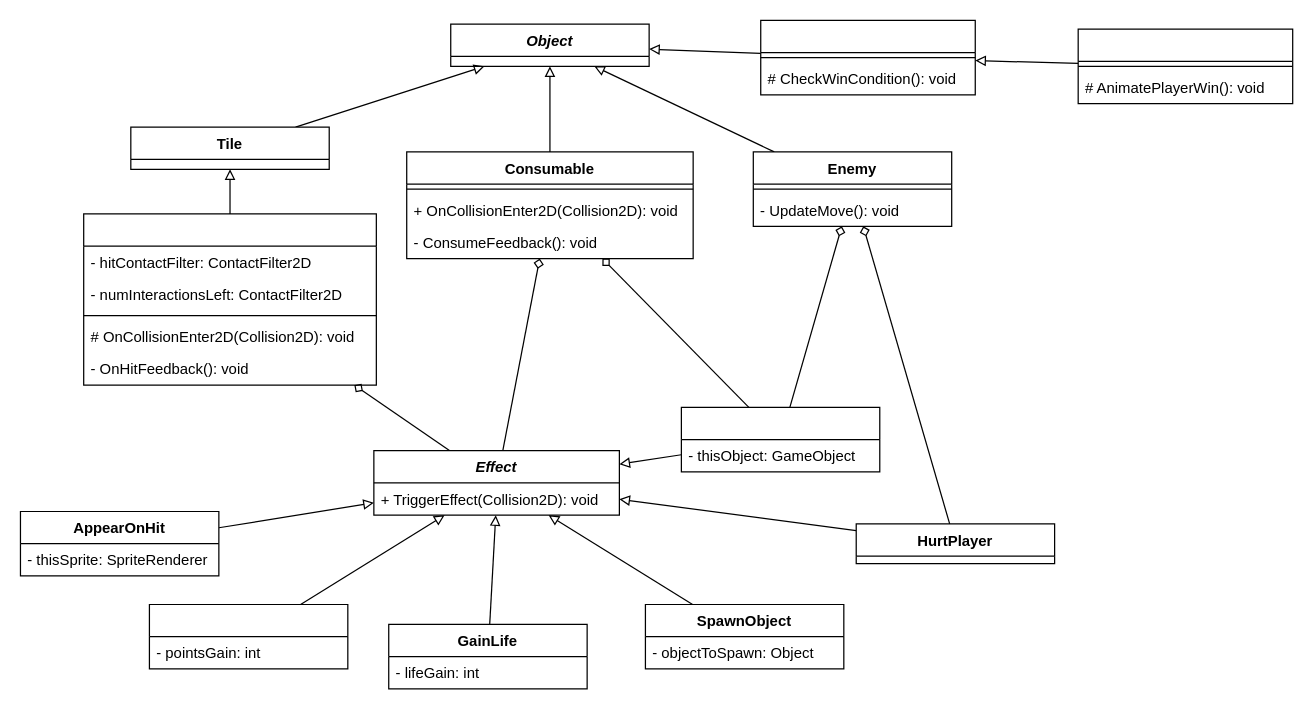
Some shapes in this 1313 by 709 pixel diagram are drawn without their labels. The shapes that lost their labels are listed below. From the top down, each one's box as (x1, y1, x2, y2) in pixels, then its label:
(760, 19, 975, 95): WinGameObject
(1077, 28, 1293, 104): Checkpoint
(82, 213, 376, 385): InteractableTile
(680, 406, 880, 472): DestroyObject
(148, 603, 348, 669): GainPoints
